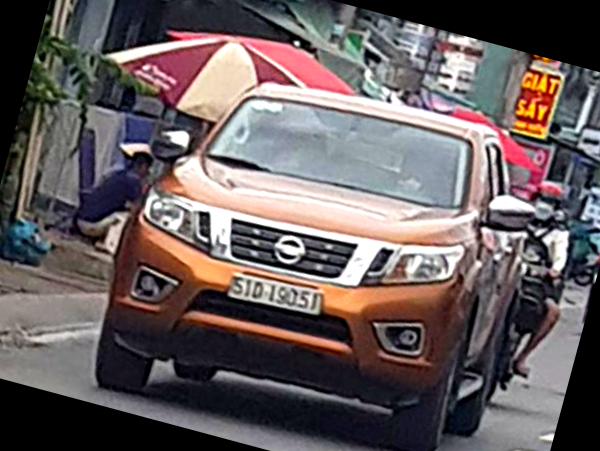lisence: (230, 272, 323, 316)
